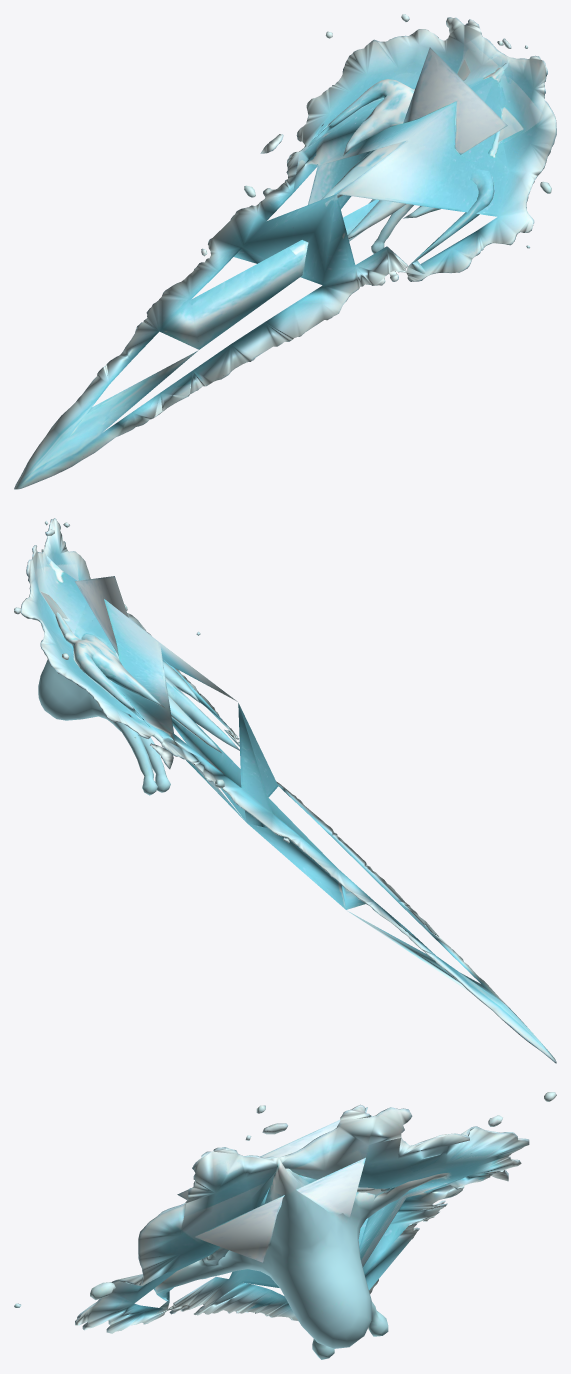
File: 019ec81a-dac5-7d6a-ac4d-4824e033009e.glb
3 renders of one model, top to bottom at view 1: azimuth 30°, elevation 25°; view 2: azimuth 150°, elevation 25°; view 3: azimuth 270°, elevation 25°, orthographic. The views are drawn at different scales.
Parts seen in each view (by area): view 1: tripo_node_812ef267-56d3-4ad5-8dfb-d1d220d97796; view 2: tripo_node_812ef267-56d3-4ad5-8dfb-d1d220d97796; view 3: tripo_node_812ef267-56d3-4ad5-8dfb-d1d220d97796.
Part boxes in pixels (bbox=[...]): tripo_node_812ef267-56d3-4ad5-8dfb-d1d220d97796: bbox=[14, 14, 556, 489]; tripo_node_812ef267-56d3-4ad5-8dfb-d1d220d97796: bbox=[14, 518, 556, 1063]; tripo_node_812ef267-56d3-4ad5-8dfb-d1d220d97796: bbox=[14, 1092, 556, 1359].
Size of the model in its own units: 0.998 by 0.6895 by 0.5723.
Materials: 1 (1 with a texture image).
